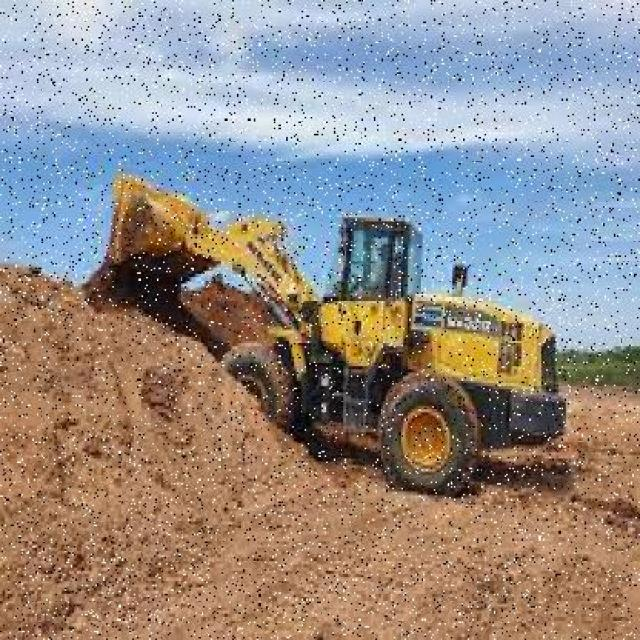buldozerpayloadergrader: (104, 153, 571, 501)
